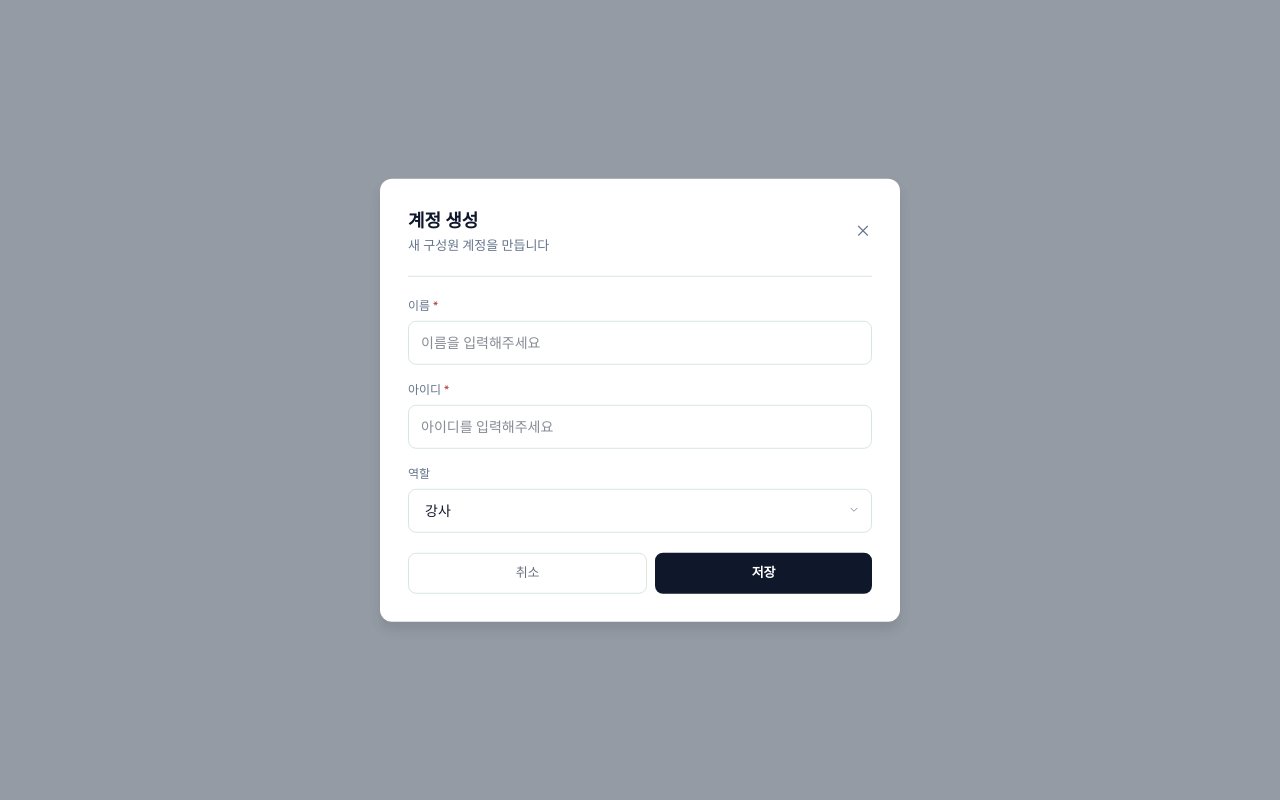
CreateMemberModal › 이름과 아이디를 입력하지 않고 저장하면 검증 메시지를 노출한다
What coordinates should you click on to do the following:
click the button "저장"
I would click on:
 (764, 573)
Its box is 655,552 -> 872,593.
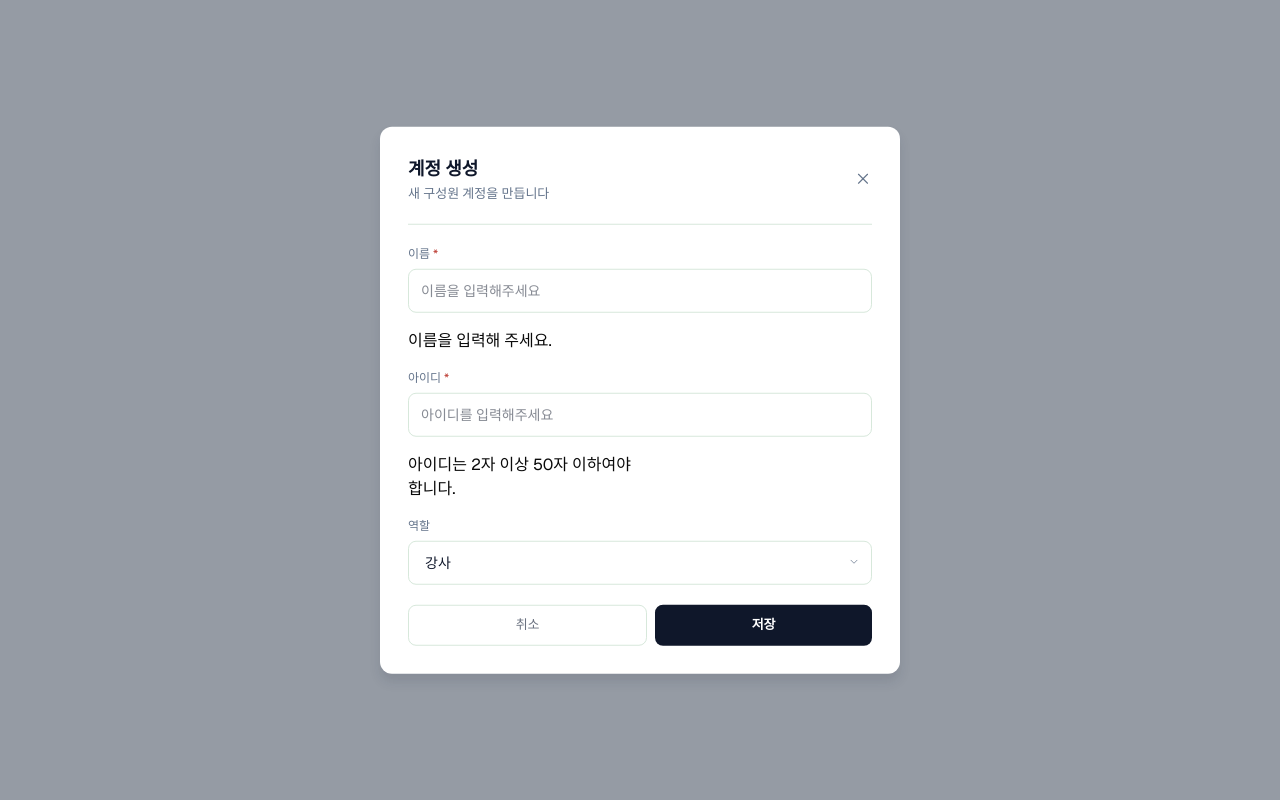
Result: the text "이름을 입력해 주세요." is shown at 408,329 -> 552,350
Result: the text "아이디는 2자 이상 50자 이하여야 합니다." is shown at 408,452 -> 632,500
